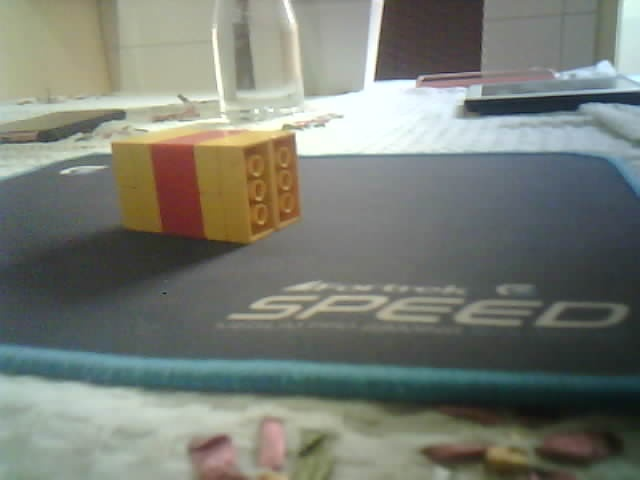lego: (110, 126, 302, 244)
